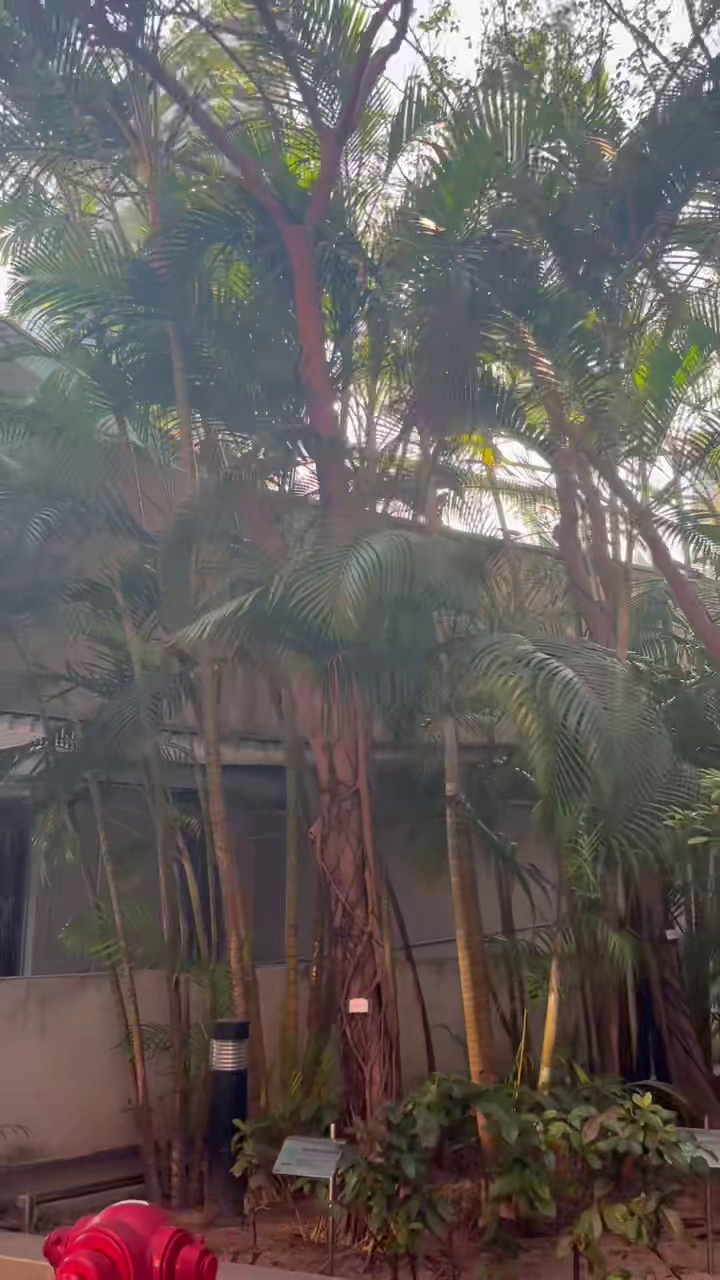Ficus benjamina: (73, 0, 413, 1121)
